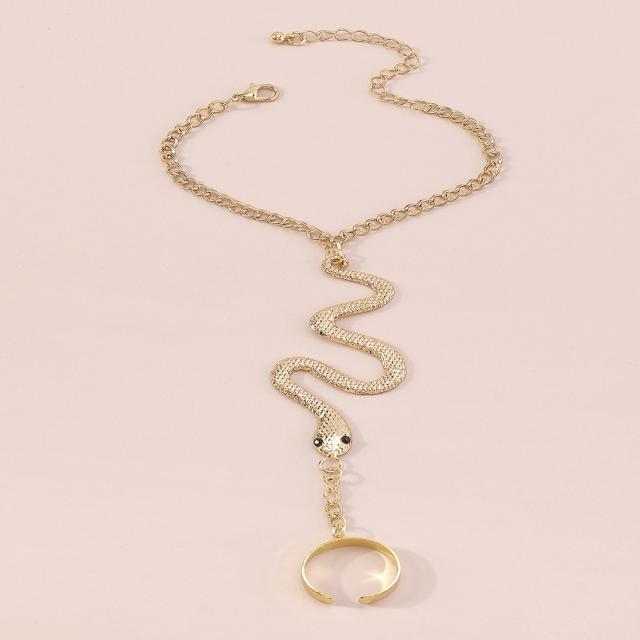bracelet: (128, 0, 521, 640)
